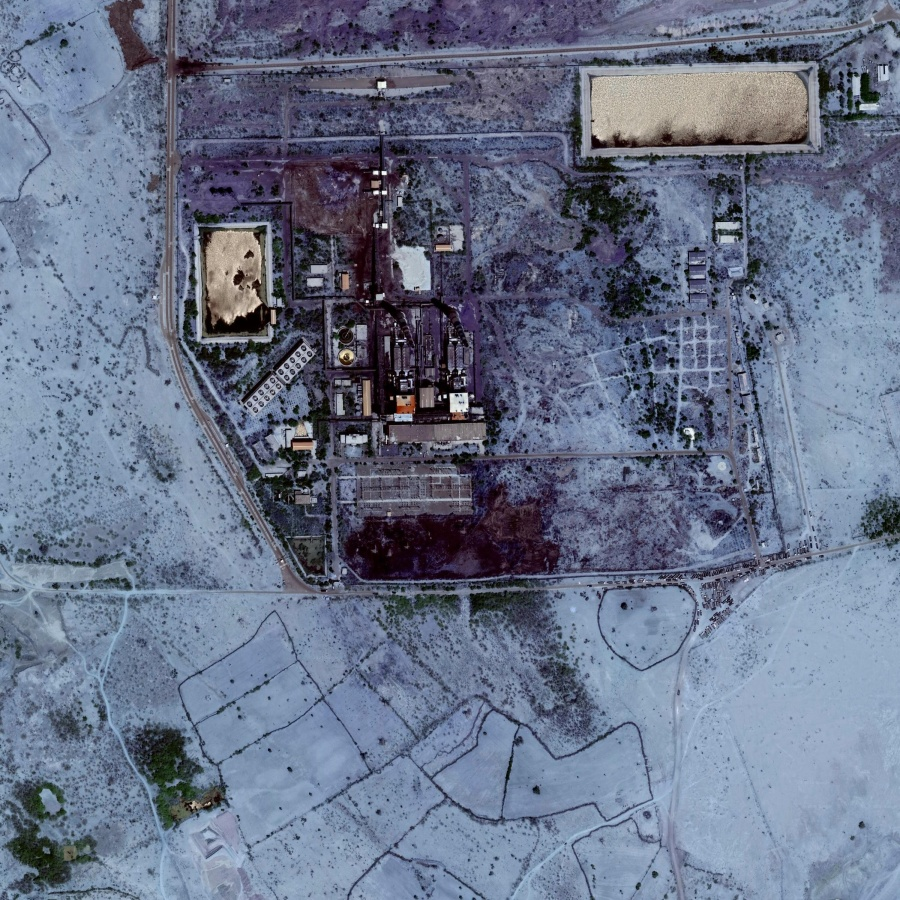PowerPlant: (182, 139, 552, 577)
